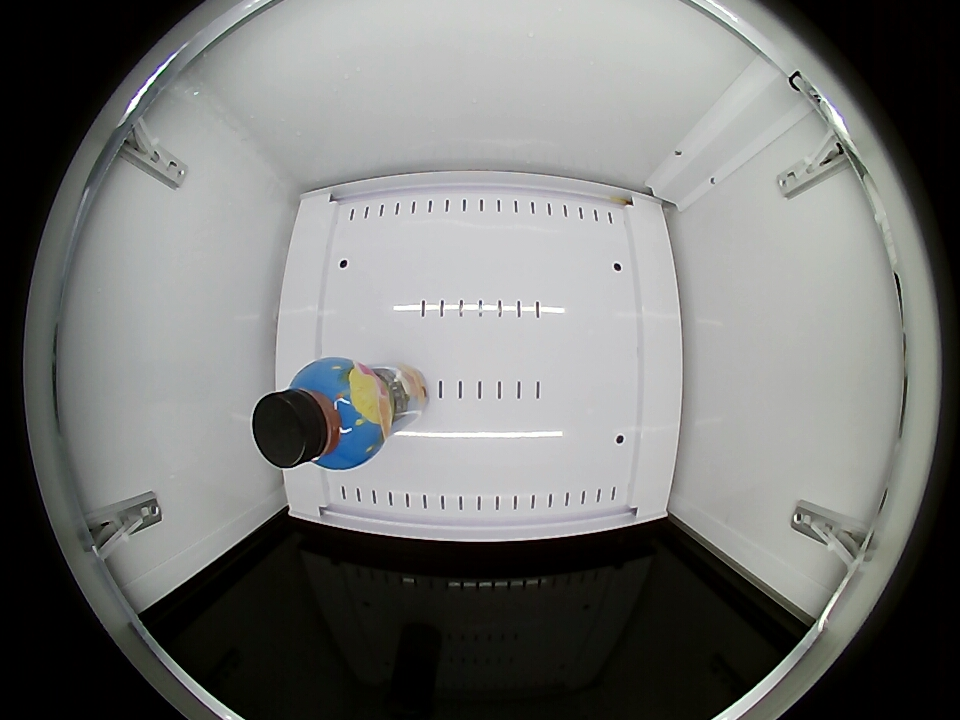guolicheng2: (252, 357, 383, 471)
